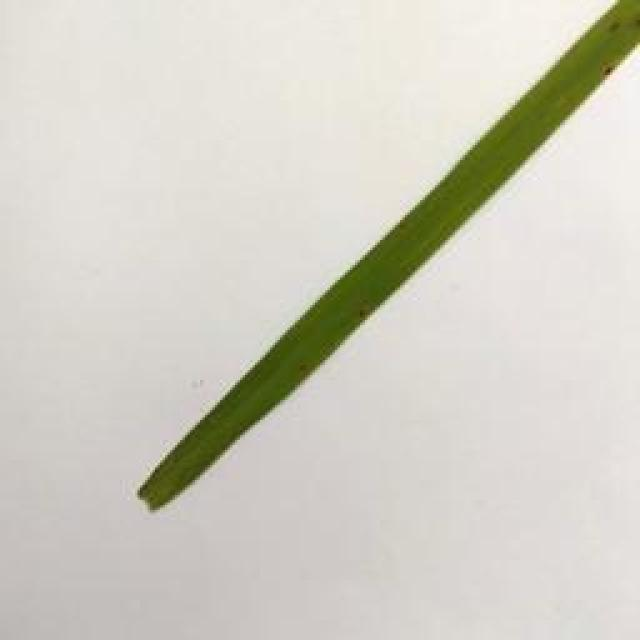Brown_Spot: (594, 61, 620, 85), (289, 365, 316, 384), (358, 298, 375, 326), (607, 13, 620, 39), (632, 10, 640, 38)
